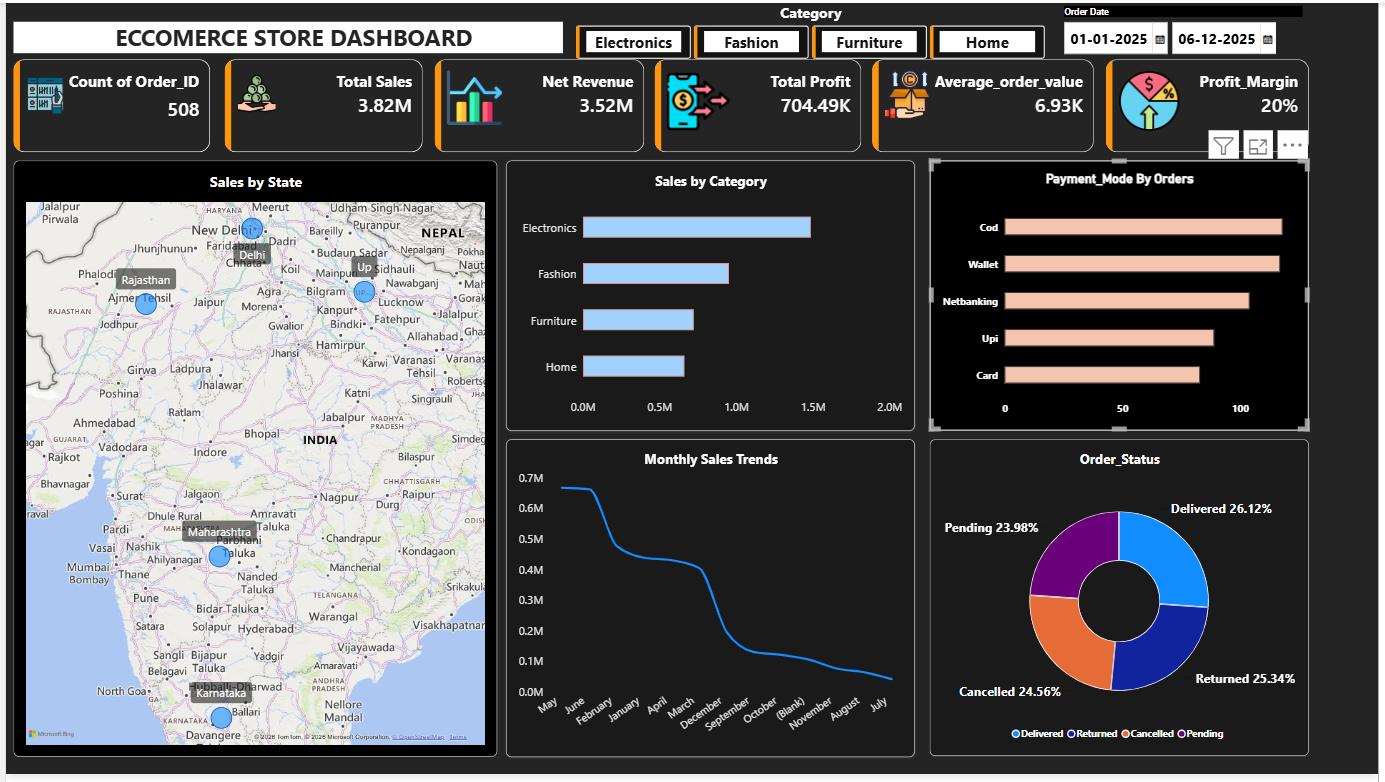

What the dashboard file says about the page in this screenshot:
{"tool":"powerbi","page":{"name":"Dashboard","canvas":[1920,1080],"ordinal":0},"visuals":[{"type":"textbox","box":[10.5,26.2,769.2,43.6],"z":0},{"type":"cardVisual","fields":{"Data":["Count(sales_data.Order_ID)"]},"box":[10.5,78.5,275.6,130.8],"z":1000},{"type":"cardVisual","fields":{"Data":["Sum(sales_data.Sales)"]},"box":[305.2,78.5,277.3,130.8],"z":2000},{"type":"cardVisual","fields":{"Data":["Sum(sales_data.Profit)"]},"box":[907,78.5,289.5,130.8],"z":3000},{"type":"cardVisual","fields":{"Data":["sales_data.Profit_Margin"]},"box":[1538.4,78.5,284.3,130.8],"z":4000},{"type":"cardVisual","fields":{"Data":["sales_data.Net Revenue"]},"box":[600,78.5,293,130.8],"z":5000},{"type":"cardVisual","fields":{"Data":["sales_data.Average_order_value"]},"box":[1212.2,78.5,310.5,130.8],"z":6000},{"type":"lineChart","title":"Monthly Sales Trends","fields":{"Category":["sales_data.Month"],"Y":["Sum(sales_data.Sales)"]},"box":[699.4,610.5,572.1,444.8],"z":7000},{"type":"clusteredBarChart","title":"Sales by Category","fields":{"Category":["sales_data.Category"],"Y":["Sum(sales_data.Sales)"]},"box":[699.4,219.8,572.1,378.5],"z":8000},{"type":"donutChart","title":"Order_Status","fields":{"Category":["sales_data.Order_Status"],"Y":["CountNonNull(sales_data.Order_Status)"]},"box":[1292.4,610.5,530.2,443],"z":9000},{"type":"clusteredBarChart","title":"Payment_Mode By Orders","fields":{"Y":["Count(sales_data.Order_ID)"],"Category":["sales_data.Payment_Mode"]},"box":[1292.4,219.8,530.2,378.5],"z":10000},{"type":"advancedSlicerVisual","fields":{"Values":["sales_data.Category"]},"box":[797.1,0,657.6,78.5],"z":11000},{"type":"slicer","fields":{"Values":["sales_data.Order_Date"]},"box":[1472.6,3.5,349.8,70],"z":12000},{"type":"map","title":"Sales by State","fields":{"Category":["sales_data.State"]},"box":[10.5,220.4,676.8,834.3],"z":13000}]}

Visuals, with their boxes in screenshot pixels (x1, y1, x2, y2), scaled from the page's 1920x1080 canvas onto the 1385x782 screenshot:
textbox: rect(8, 19, 562, 51)
cardVisual - Count(sales_data.Order_ID): rect(8, 57, 206, 152)
cardVisual - Sum(sales_data.Sales): rect(220, 57, 420, 152)
cardVisual - Sum(sales_data.Profit): rect(654, 57, 863, 152)
cardVisual - sales_data.Profit_Margin: rect(1110, 57, 1315, 152)
cardVisual - sales_data.Net Revenue: rect(433, 57, 644, 152)
cardVisual - sales_data.Average_order_value: rect(874, 57, 1098, 152)
"Monthly Sales Trends" lineChart: rect(505, 442, 917, 764)
"Sales by Category" clusteredBarChart: rect(505, 159, 917, 433)
"Order_Status" donutChart: rect(932, 442, 1315, 763)
"Payment_Mode By Orders" clusteredBarChart: rect(932, 159, 1315, 433)
advancedSlicerVisual - sales_data.Category: rect(575, 0, 1049, 57)
slicer - sales_data.Order_Date: rect(1062, 3, 1315, 53)
"Sales by State" map: rect(8, 160, 496, 764)
